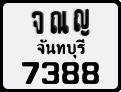letters: (61, 61, 80, 85), (81, 61, 100, 85), (50, 11, 69, 35), (74, 8, 90, 36), (41, 61, 60, 84), (22, 61, 40, 84), (31, 10, 45, 35)
province: (37, 38, 85, 59)
